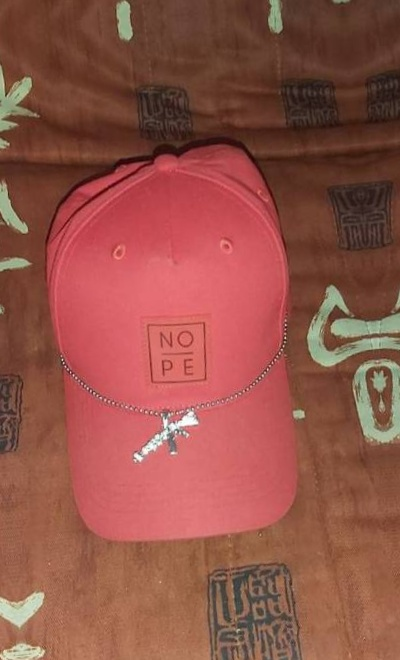Hat: (15, 131, 344, 573)
